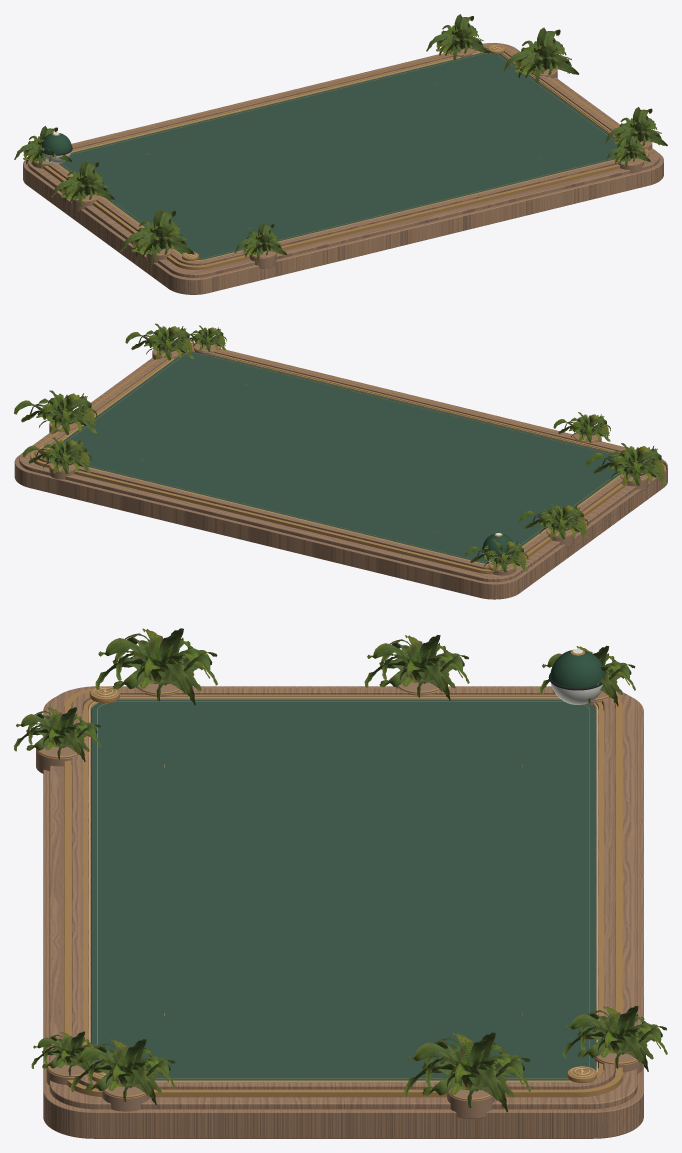
File: grove_table.glb
The picture shows the model from 3 angles, top to bottom: view 1: azimuth 30°, elevation 25°; view 2: azimuth 150°, elevation 25°; view 3: azimuth 270°, elevation 25°; orthographic projection. The views are drawn at different scales.
Parts seen in each view (by area): view 1: Recessed woven playfield, Continuous table foundation, Fern border 00, Outer moulding, Fine rolled inner lip, Ceramic ball upper; view 2: Recessed woven playfield, Continuous table foundation, Fern border 00, Outer moulding, Fine rolled inner lip; view 3: Recessed woven playfield, Continuous table foundation, Fern border 00, Outer moulding, Fine rolled inner lip, Ceramic ball upper.
Part boxes in pixels (x1,y1,x2,y2): Recessed woven playfield: (59, 52, 621, 259); Continuous table foundation: (23, 43, 663, 294); Fern border 00: (14, 14, 667, 262); Outer moulding: (34, 44, 651, 269); Fine rolled inner lip: (57, 45, 619, 260); Ceramic ball upper: (41, 133, 71, 154); Recessed woven playfield: (63, 352, 620, 563); Continuous table foundation: (14, 342, 667, 599); Fern border 00: (14, 323, 667, 572); Outer moulding: (30, 342, 648, 574); Fine rolled inner lip: (40, 350, 620, 564); Recessed woven playfield: (91, 699, 596, 1080); Continuous table foundation: (36, 681, 643, 1138); Fern border 00: (14, 628, 667, 1112); Outer moulding: (36, 649, 637, 1100); Fine rolled inner lip: (89, 686, 597, 1081); Ceramic ball upper: (550, 650, 604, 687).
Bounding box in the file's own units: 25.79 × 2.7 × 15.35.
8 materials, 2 textured.
